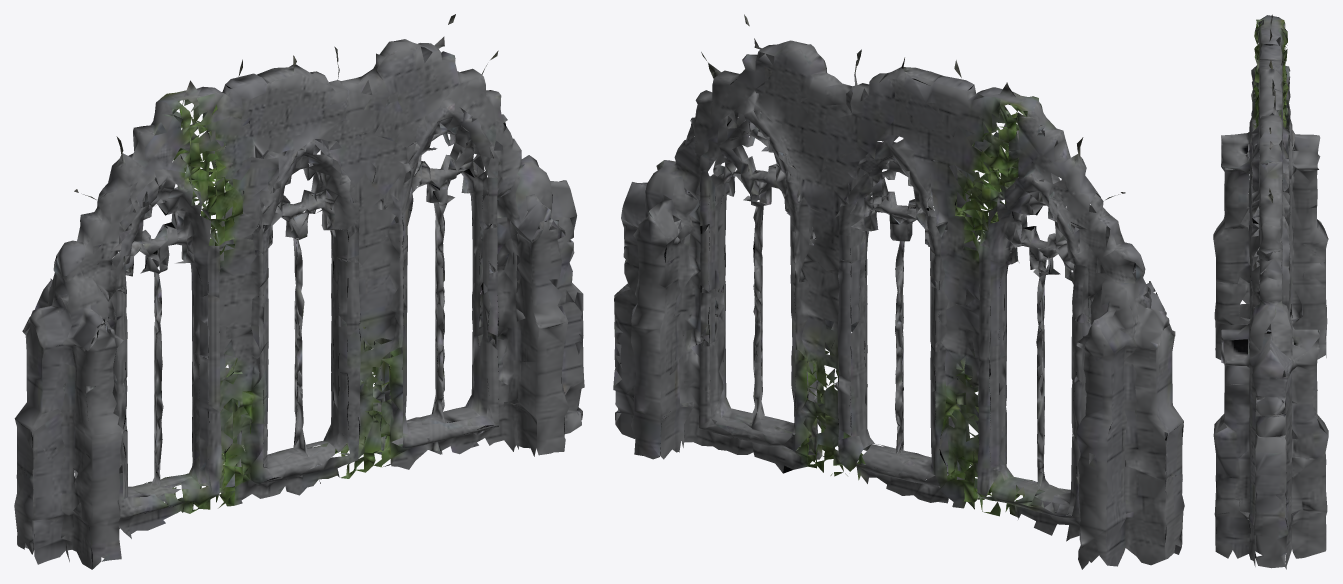
Rendered from hero_wall.glb.
3 views of the same model, side by side, from view 1: azimuth 30°, elevation 25°; view 2: azimuth 150°, elevation 25°; view 3: azimuth 270°, elevation 25° (orthographic). The views are drawn at different scales.
Parts seen in each view (by area): view 1: hero_wall; view 2: hero_wall; view 3: hero_wall.
Part boxes in pixels (bbox=[...]): hero_wall: bbox=[14, 14, 584, 569]; hero_wall: bbox=[613, 14, 1184, 569]; hero_wall: bbox=[1213, 14, 1328, 569].
Bounding box in the file's own units: 2.3 × 1.79 × 0.4639.
1 material, 1 textured.
